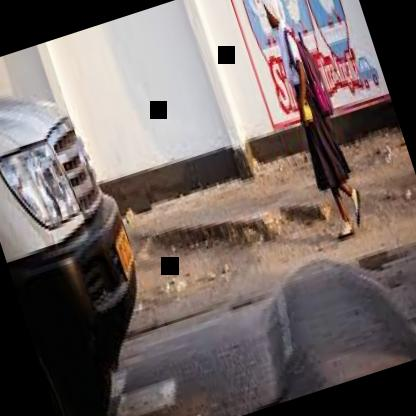car: (0, 47, 192, 416)
